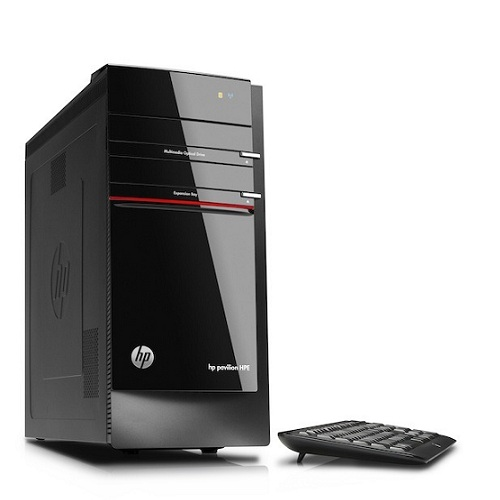Teclado: (276, 418, 460, 474)
